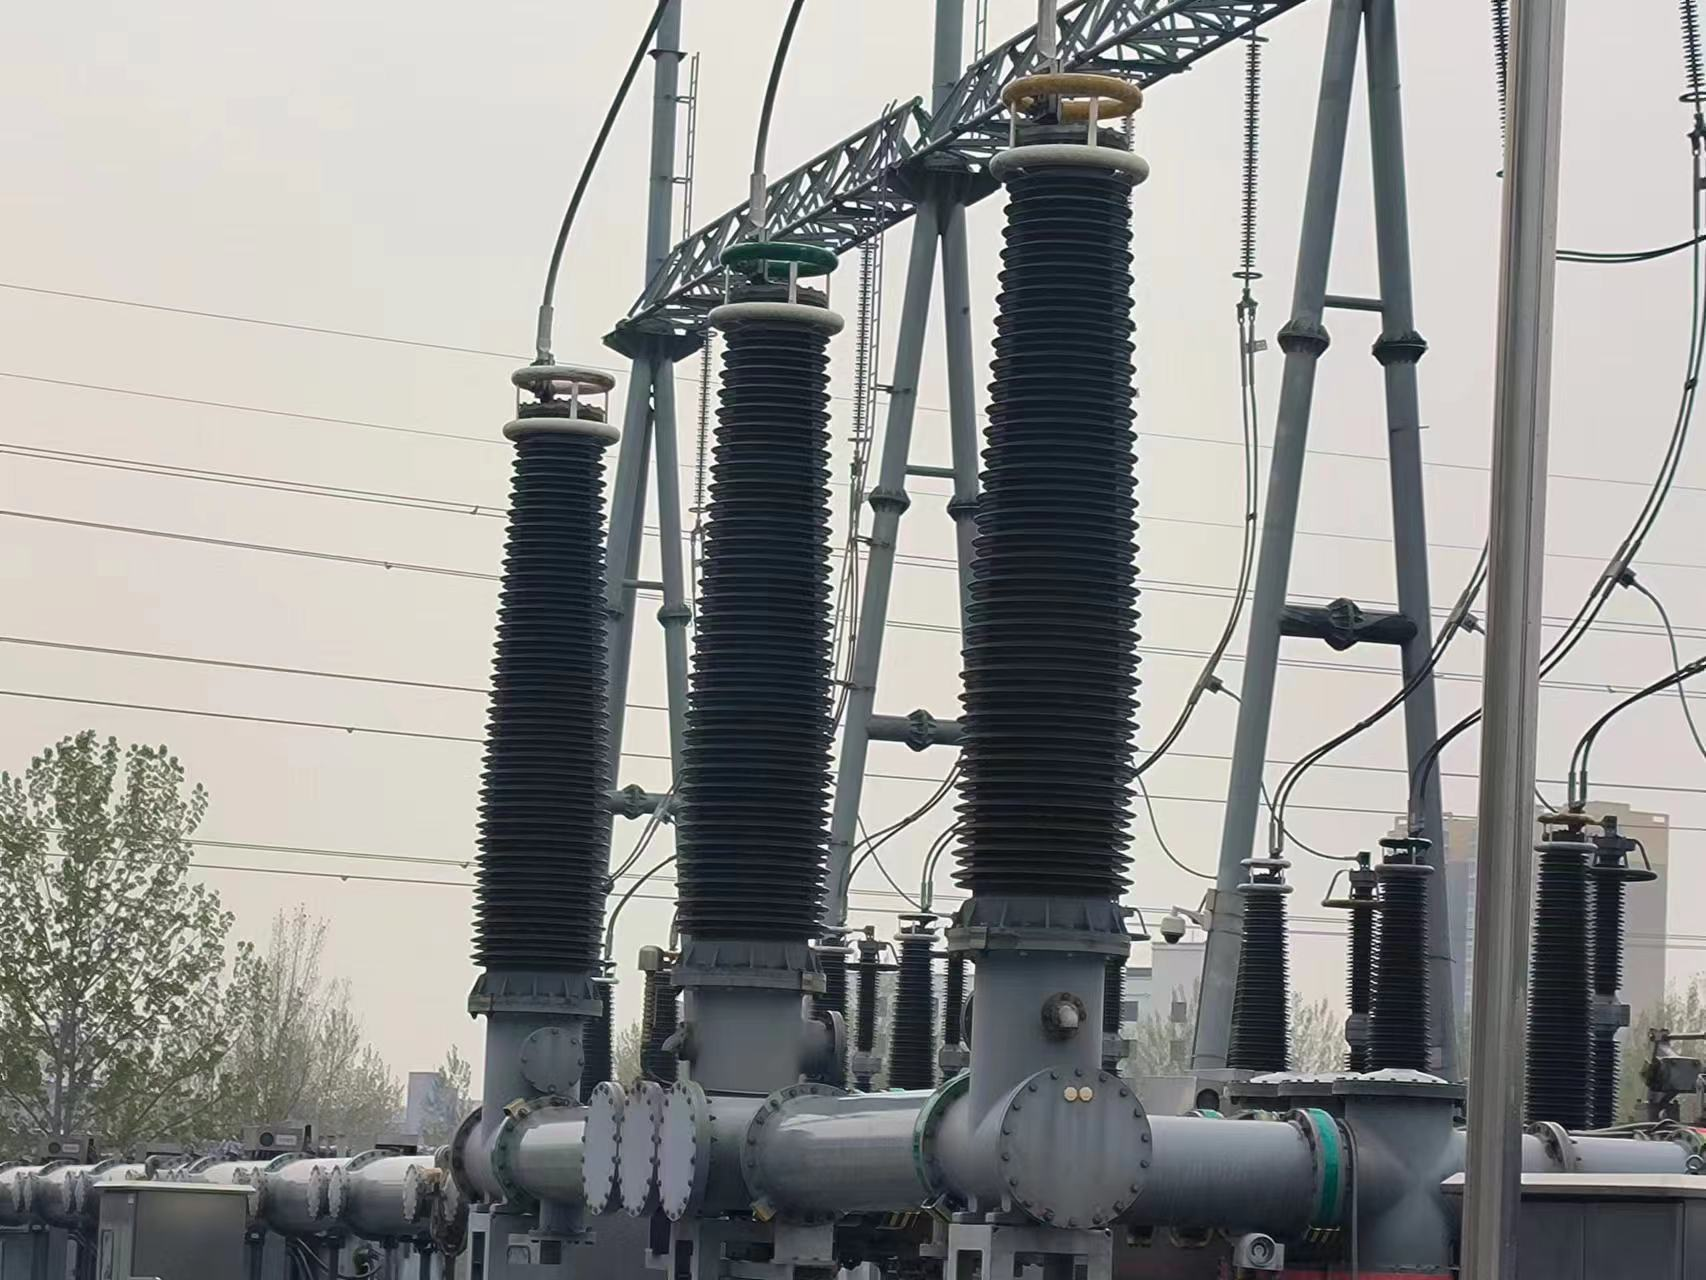Voltage transformer: (950, 71, 1157, 908), (665, 237, 848, 951), (468, 359, 625, 973)
